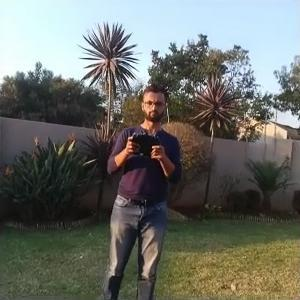follow: (96, 79, 188, 299)
